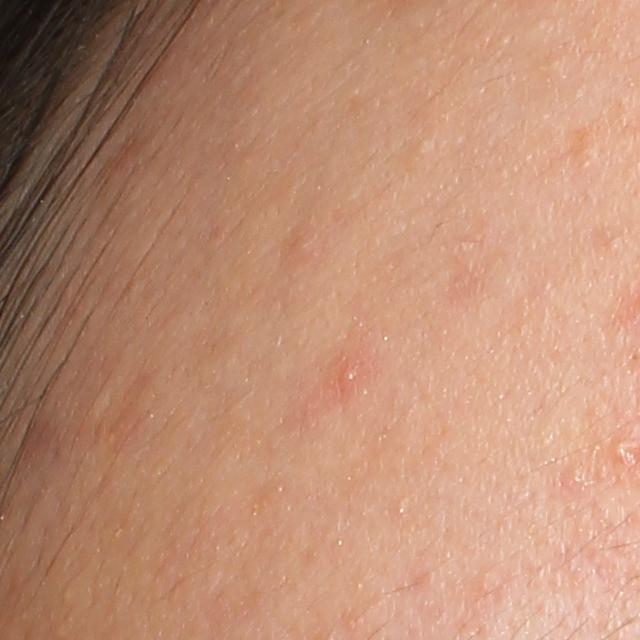comedo: (575, 130, 604, 168), (600, 233, 628, 258), (411, 134, 435, 156), (392, 497, 409, 517)
papule: (341, 363, 362, 388)
